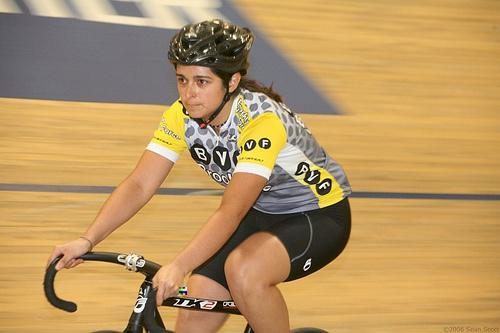car: (40, 250, 327, 333)
person: (48, 19, 353, 333)
